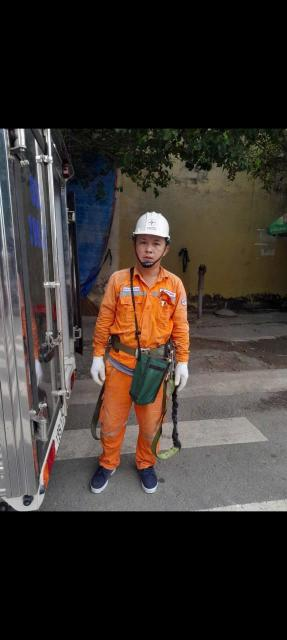gloves: (171, 361, 193, 392), (90, 353, 110, 385)
harness: (107, 331, 177, 364)
helmet: (128, 207, 175, 242)
shoes: (82, 452, 123, 495), (130, 448, 165, 494)
